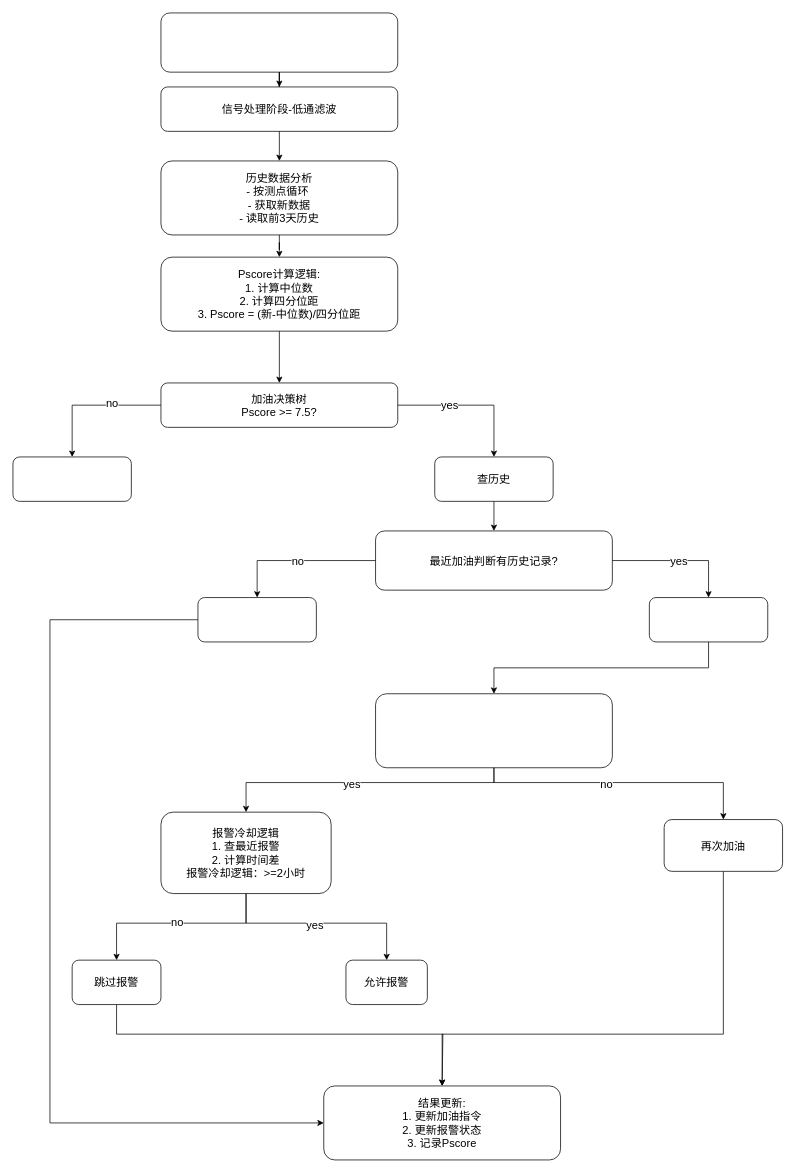
This 796x1173 diagram has some shape labels left out. The centre of each missing label's shape, as x and y in pixels:
"不处理" goes at (71,478).
"数据预处理阶段 1. 转换时间列 2. 初始化告警标志 3. 初始化平滑值列" goes at (279,42).
"时间判断" goes at (708,619).
"时间间隔处理<=6小时? 是: 报警逻辑 否: 再次加油" goes at (493,730).
"直接加油" goes at (256,619).
